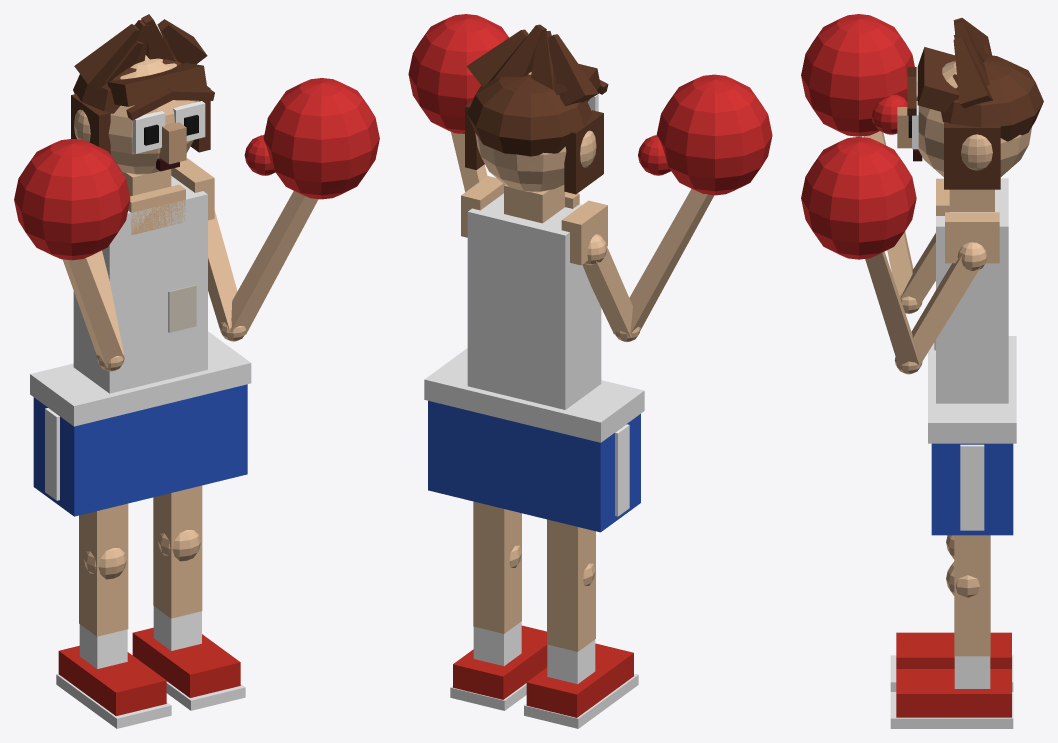
File: boxeador_torpe.obj
3 renders of one model, left to right at view 1: azimuth 30°, elevation 25°; view 2: azimuth 150°, elevation 25°; view 3: azimuth 270°, elevation 25°, orthographic.
Parts seen in each view (by area): view 1: short, torso_camiseta, guante_L, guante_R, cintura, pierna_L, pierna_R, zapato_L, zapato_R, antebrazo_R, cabeza, antebrazo_L (+24 smaller); view 2: torso_camiseta, short, guante_L, cintura, pelo_base, guante_R, pierna_R, pierna_L, zapato_L, zapato_R, antebrazo_L, cabeza (+17 smaller); view 3: guante_R, torso_camiseta, guante_L, short, zapato_R, cintura, pelo_base, pierna_R, zapato_L, patilla_R, brazo_R, cabeza (+17 smaller).
Part boxes in pixels (x1=…): short: x1=33, y1=384, x2=247, y2=516; torso_camiseta: x1=73, y1=176, x2=207, y2=393; guante_L: x1=14, y1=139, x2=130, y2=260; guante_R: x1=263, y1=78, x2=379, y2=199; cintura: x1=30, y1=331, x2=251, y2=426; pierna_L: x1=79, y1=503, x2=128, y2=636; pierna_R: x1=153, y1=485, x2=202, y2=618; zapato_L: x1=58, y1=645, x2=166, y2=715; zapato_R: x1=132, y1=627, x2=240, y2=697; antebrazo_R: x1=230, y1=191, x2=318, y2=334; cabeza: x1=108, y1=55, x2=198, y2=174; antebrazo_L: x1=62, y1=258, x2=123, y2=368; torso_camiseta: x1=467, y1=193, x2=601, y2=409; short: x1=428, y1=400, x2=640, y2=532; guante_L: x1=656, y1=74, x2=772, y2=195; cintura: x1=424, y1=348, x2=644, y2=442; pelo_base: x1=467, y1=74, x2=592, y2=156; guante_R: x1=408, y1=14, x2=509, y2=133; pierna_R: x1=473, y1=501, x2=521, y2=633; pierna_L: x1=547, y1=519, x2=595, y2=651; zapato_L: x1=526, y1=643, x2=633, y2=717; zapato_R: x1=453, y1=625, x2=547, y2=699; antebrazo_L: x1=629, y1=189, x2=714, y2=333; cabeza: x1=475, y1=72, x2=566, y2=192; guante_R: x1=801, y1=137, x2=916, y2=259; torso_camiseta: x1=936, y1=178, x2=1008, y2=403; guante_L: x1=801, y1=14, x2=914, y2=136; short: x1=931, y1=443, x2=1013, y2=535; zapato_R: x1=896, y1=669, x2=1011, y2=717; cintura: x1=928, y1=336, x2=1016, y2=443; pelo_base: x1=941, y1=55, x2=1043, y2=141; pierna_R: x1=954, y1=535, x2=990, y2=656; zapato_L: x1=896, y1=632, x2=1011, y2=668; patilla_R: x1=944, y1=122, x2=1000, y2=189; brazo_R: x1=911, y1=255, x2=982, y2=368; cabeza: x1=916, y1=60, x2=1031, y2=176.
Bounding box in the file's own units: 1.8 × 3.3 × 1.07.
